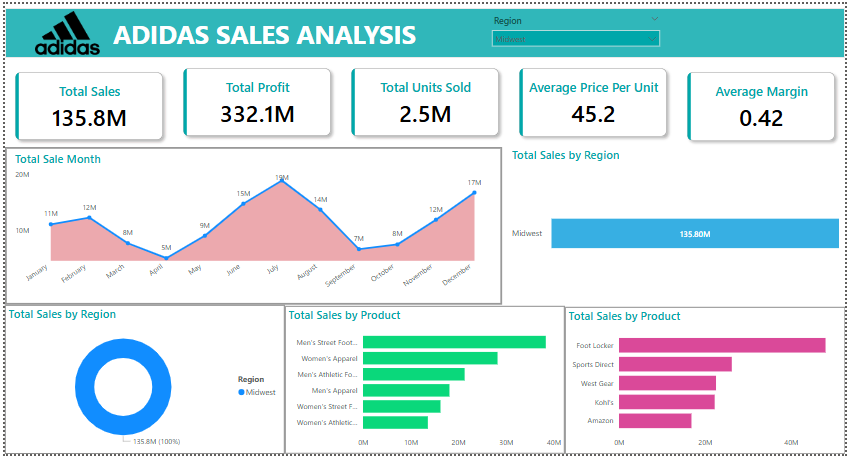

The dashboard page shown, as its layout file describes it:
{"tool":"powerbi","page":{"name":"Page 1","canvas":[1400,750],"ordinal":0},"visuals":[{"type":"shape","box":[0,7.1,1400,82.9],"z":0},{"type":"textbox","box":[175.7,14.3,535.7,67.1],"z":1000},{"type":"image","box":[0,7.1,208.6,82.9],"z":2000},{"type":"cardVisual","fields":{"Data":["Sum(Table1.Total Sales)"]},"box":[0,97.1,280,147.1],"z":3000},{"type":"cardVisual","fields":{"Data":["Sum(Data Sales Adidas.Operating Profit)"]},"box":[280,90,280,147.1],"z":4000},{"type":"cardVisual","fields":{"Data":["Table1.Average Price Per Unit"]},"box":[840,90,280,148.6],"z":5000},{"type":"cardVisual","fields":{"Data":["Sum(Data Sales Adidas.Units Sold)"]},"box":[560,90,280,147.1],"z":6000},{"type":"cardVisual","fields":{"Data":["Table1.Average Margin"]},"box":[1120,96,280,148],"z":7000},{"type":"shape","box":[0,238.6,828.6,262.9],"z":8000},{"type":"lineChart","title":"Total Sale Month","fields":{"Y":["Sum(Table1.Total Sales)"],"Category":["Table1.Invoice Date.Variation.Date Hierarchy.Month"]},"box":[11.4,244.3,801.4,250],"z":9000},{"type":"donutChart","title":"Total Sales by Region","fields":{"Category":["Table1.Region"],"Y":["Sum(Table1.Total Sales)"]},"box":[0,502,466,248],"z":10000},{"type":"barChart","title":"Total Sales by Product","fields":{"Y":["Sum(Table1.Total Sales)"],"Category":["Table1.Product"]},"box":[466,504,466,246],"z":11000},{"type":"barChart","title":"Total Sales by Product","fields":{"Y":["Sum(Table1.Total Sales)"],"Category":["Table1.Retailer"]},"box":[933.3,504.3,466.7,245.4],"z":12000},{"type":"funnel","title":"Total Sales by Region","fields":{"Category":["Table1.Region"],"Y":["Sum(Table1.Total Sales)"]},"box":[840,238.6,560,262.9],"z":13000},{"type":"slicer","fields":{"Values":["Table1.Region"]},"box":[801.4,11.4,300,72.9],"z":14000}]}

Visuals, with their boxes in screenshot pixels (x1, y1, x2, y2), scaled from the page's 1400x750 canvas onto the 850x461 screenshot:
shape: <bbox>0, 4, 849, 55</bbox>
textbox: <bbox>107, 9, 432, 50</bbox>
image: <bbox>0, 4, 127, 55</bbox>
cardVisual - Sum(Table1.Total Sales): <bbox>0, 60, 170, 150</bbox>
cardVisual - Sum(Data Sales Adidas.Operating Profit): <bbox>170, 55, 340, 146</bbox>
cardVisual - Table1.Average Price Per Unit: <bbox>510, 55, 680, 147</bbox>
cardVisual - Sum(Data Sales Adidas.Units Sold): <bbox>340, 55, 510, 146</bbox>
cardVisual - Table1.Average Margin: <bbox>680, 59, 849, 150</bbox>
shape: <bbox>0, 147, 503, 308</bbox>
"Total Sale Month" lineChart: <bbox>7, 150, 493, 304</bbox>
"Total Sales by Region" donutChart: <bbox>0, 309, 283, 460</bbox>
"Total Sales by Product" barChart: <bbox>283, 310, 566, 460</bbox>
"Total Sales by Product" barChart: <bbox>567, 310, 849, 460</bbox>
"Total Sales by Region" funnel: <bbox>510, 147, 849, 308</bbox>
slicer - Table1.Region: <bbox>487, 7, 669, 52</bbox>
